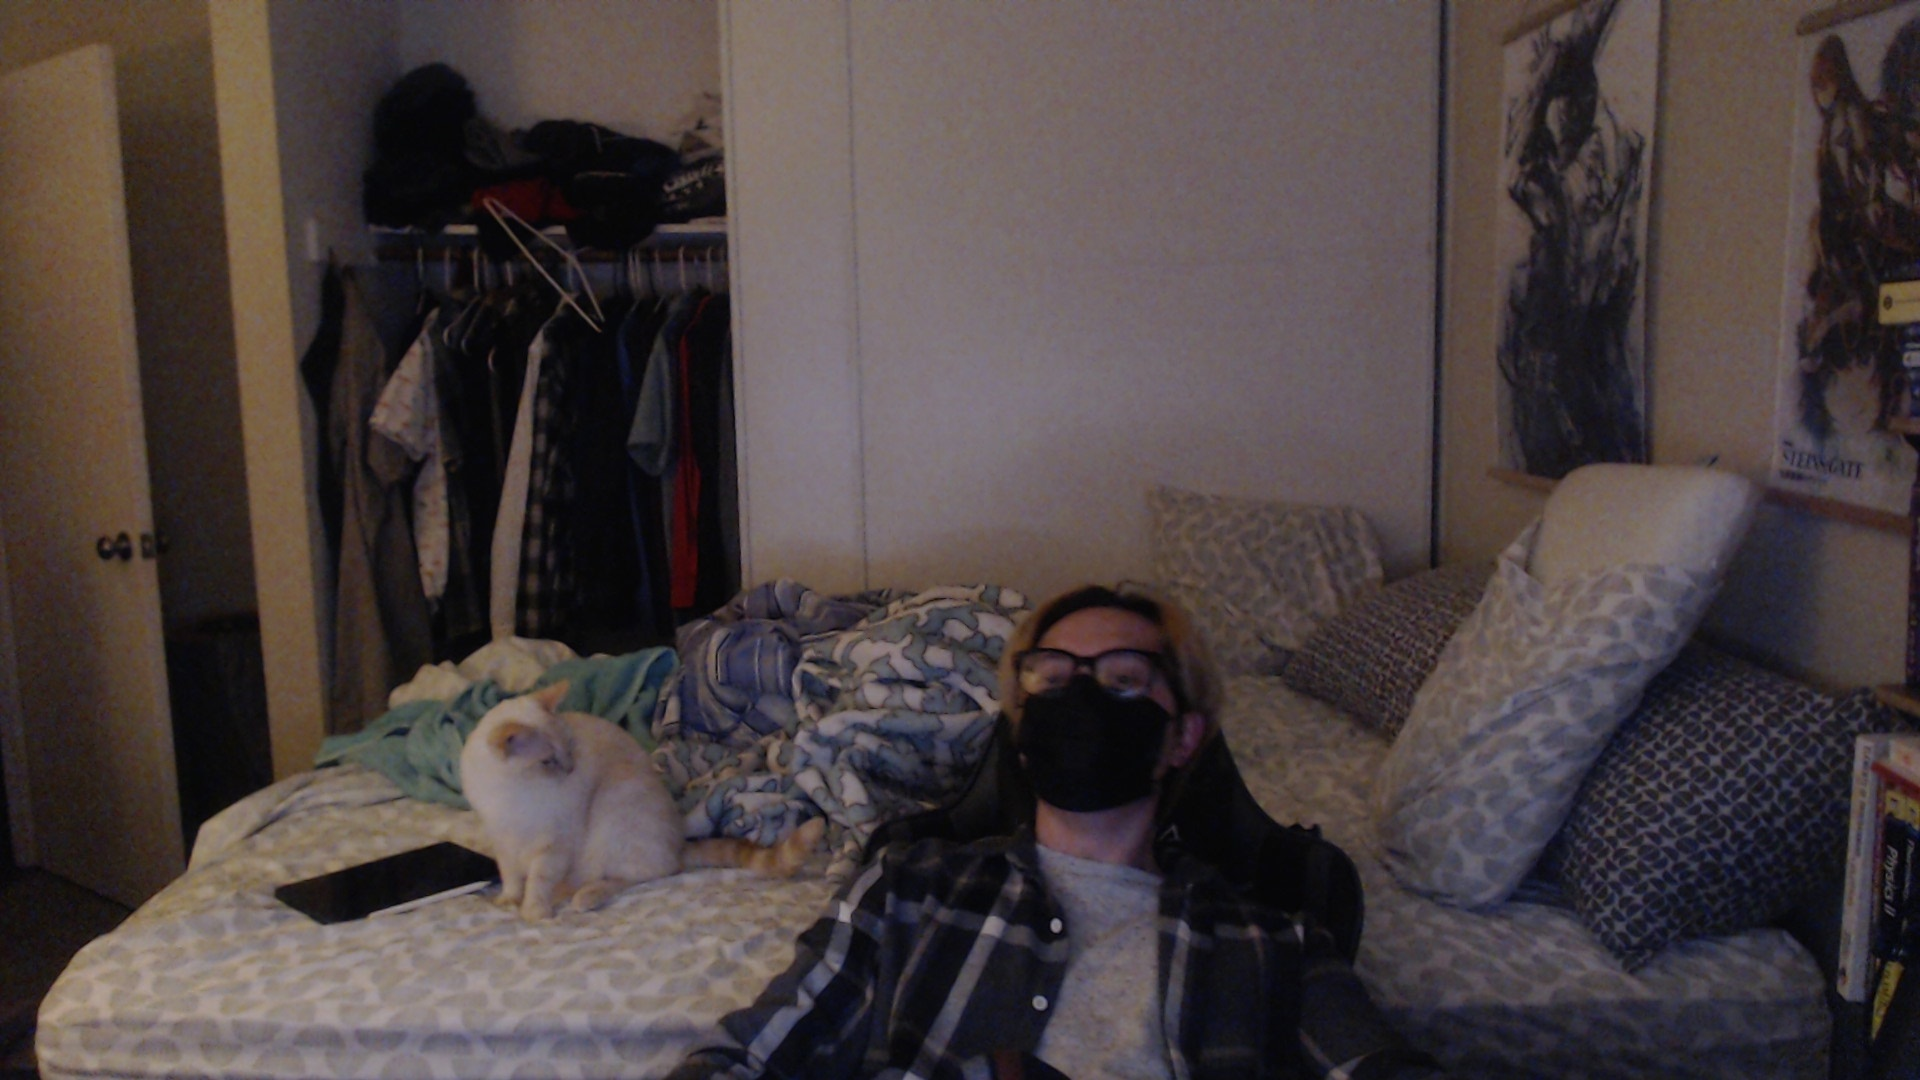glasses: (1010, 626, 1171, 707)
masked: (1010, 622, 1183, 810)
